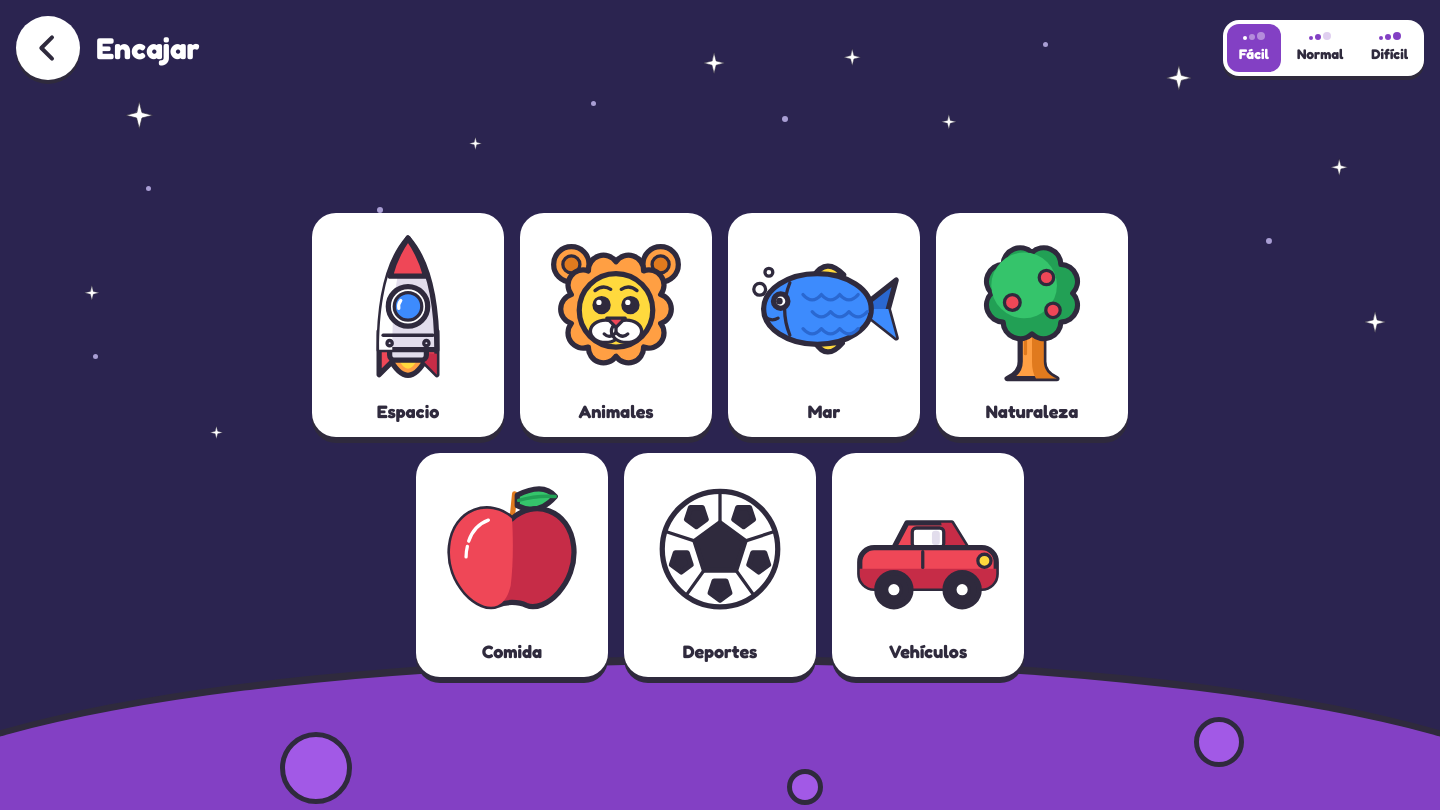
espacio se puede jugar sin haber jugado nada antes
The width and height of the screenshot is (1440, 810).
Click the link "Espacio".
click(408, 325)  # box 312,213 -> 504,437
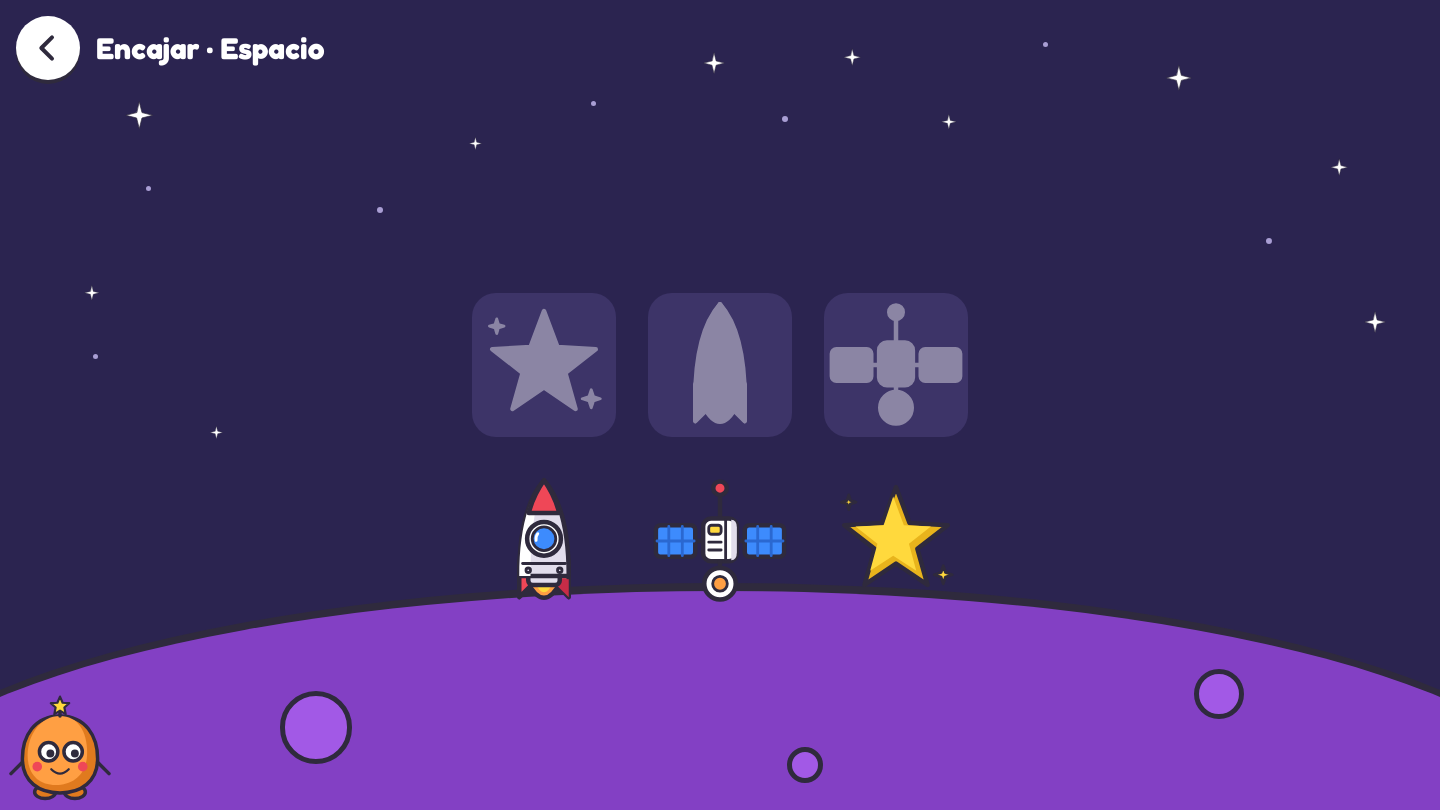
Expected: the heading "Encajar · Espacio" is shown, 96,30 -> 324,66
